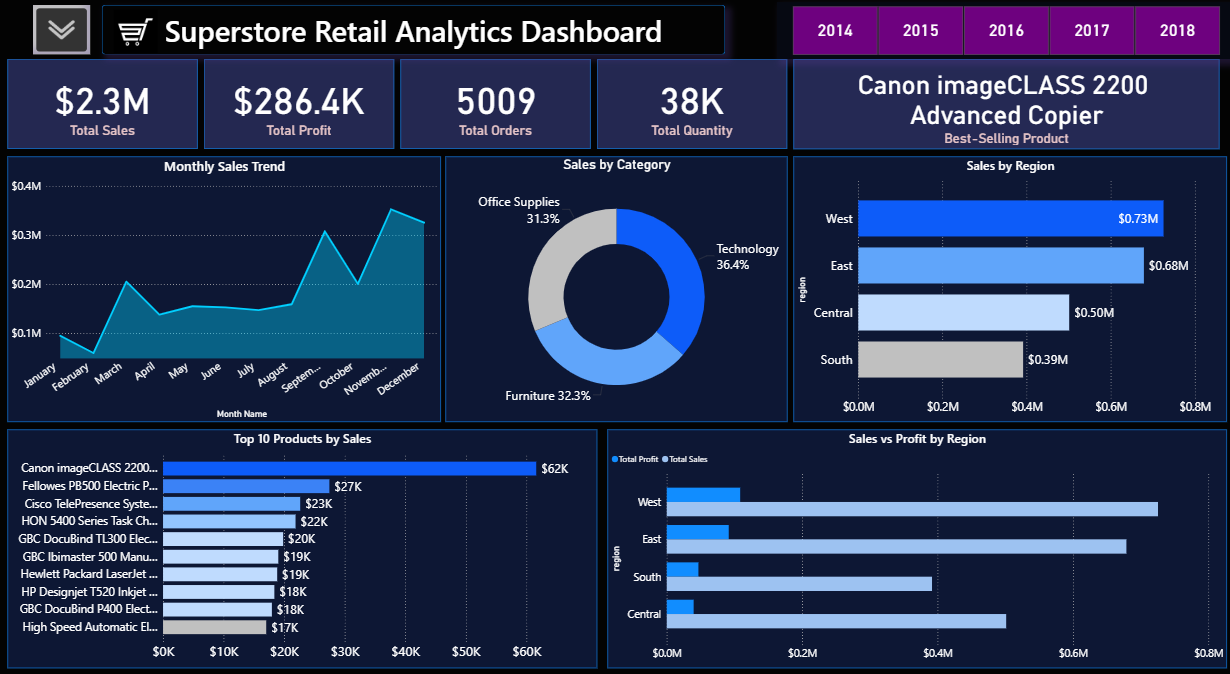

The dashboard page shown, as its layout file describes it:
{"tool":"powerbi","page":{"name":"Page 1","canvas":[2000,1100],"ordinal":0},"visuals":[{"type":"card","fields":{"Values":["Sample - Superstore.Total Sales"]},"box":[11.9,97.8,307.8,145.5],"z":0},{"type":"card","fields":{"Values":["Sample - Superstore.Total Quantity"]},"box":[966.3,97.8,307.8,145.5],"z":1000},{"type":"card","fields":{"Values":["Sample - Superstore.Total Profit"]},"box":[331.6,97.8,307.8,145.5],"z":2000},{"type":"card","title":"Total Orders","fields":{"Values":["Sample - Superstore.Total Orders"]},"box":[649,97.8,307.8,145.5],"z":3000},{"type":"card","fields":{"Values":["Sample - Superstore.Top Product"]},"box":[1285.5,97.2,690.1,145.8],"z":4000},{"type":"clusteredBarChart","title":" Sales by Region","fields":{"Category":["Sample - Superstore.Region"],"Y":["Sample - Superstore.Total Sales"]},"box":[1285.5,255.2,702.3,430.1],"z":5000},{"type":"clusteredBarChart","title":"Sales vs Profit by Region","fields":{"Category":["Sample - Superstore.Region"],"Y":["Sample - Superstore.Total Profit","Sample - Superstore.Total Sales"]},"box":[984.2,697.4,1003.6,386.4],"z":6000},{"type":"areaChart","title":" Monthly Sales Trend","fields":{"Category":["DateTable.Month Name"],"Y":["Sample - Superstore.Total Sales"]},"box":[12.2,255.2,702.3,430.1],"z":7000},{"type":"clusteredBarChart","title":"Top 10 Best-Selling Products ","fields":{"Y":["Sample - Superstore.Total Sales"],"Category":["Sample - Superstore.Product Name"]},"box":[12.2,697.4,955,386.4],"z":8000},{"type":"slicer","title":"Year_Slicer","fields":{"Values":["DateTable.Year"]},"box":[1258.8,4.9,741.2,92.3],"z":9000},{"type":"image","title":"open_button","box":[53.5,9.7,92.3,80.2],"z":12000},{"type":"shape","title":"1st_Title","box":[166.3,8.6,1009.6,80.3],"z":14000},{"type":"image","title":"trolly_logo","box":[166.3,11.5,109,80.3],"z":15000},{"type":"donutChart","title":" Sales by Category","fields":{"Category":["Sample - Superstore.Category"],"Y":["Sample - Superstore.Total Sales"]},"box":[721.7,255.2,554.1,430.1],"z":16000}]}

Visuals, with their boxes in screenshot pixels (x1, y1, x2, y2), scaled from the page's 2000x1100 canvas onto the 1230x674 screenshot:
card - Sample - Superstore.Total Sales: [7, 60, 197, 149]
card - Sample - Superstore.Total Quantity: [594, 60, 784, 149]
card - Sample - Superstore.Total Profit: [204, 60, 393, 149]
"Total Orders" card: [399, 60, 588, 149]
card - Sample - Superstore.Top Product: [791, 60, 1215, 149]
" Sales by Region" clusteredBarChart: [791, 156, 1222, 420]
"Sales vs Profit by Region" clusteredBarChart: [605, 427, 1222, 664]
" Monthly Sales Trend" areaChart: [8, 156, 439, 420]
"Top 10 Best-Selling Products " clusteredBarChart: [8, 427, 595, 664]
"Year_Slicer" slicer: [774, 3, 1229, 60]
"open_button" image: [33, 6, 90, 55]
"1st_Title" shape: [102, 5, 723, 54]
"trolly_logo" image: [102, 7, 169, 56]
" Sales by Category" donutChart: [444, 156, 785, 420]
